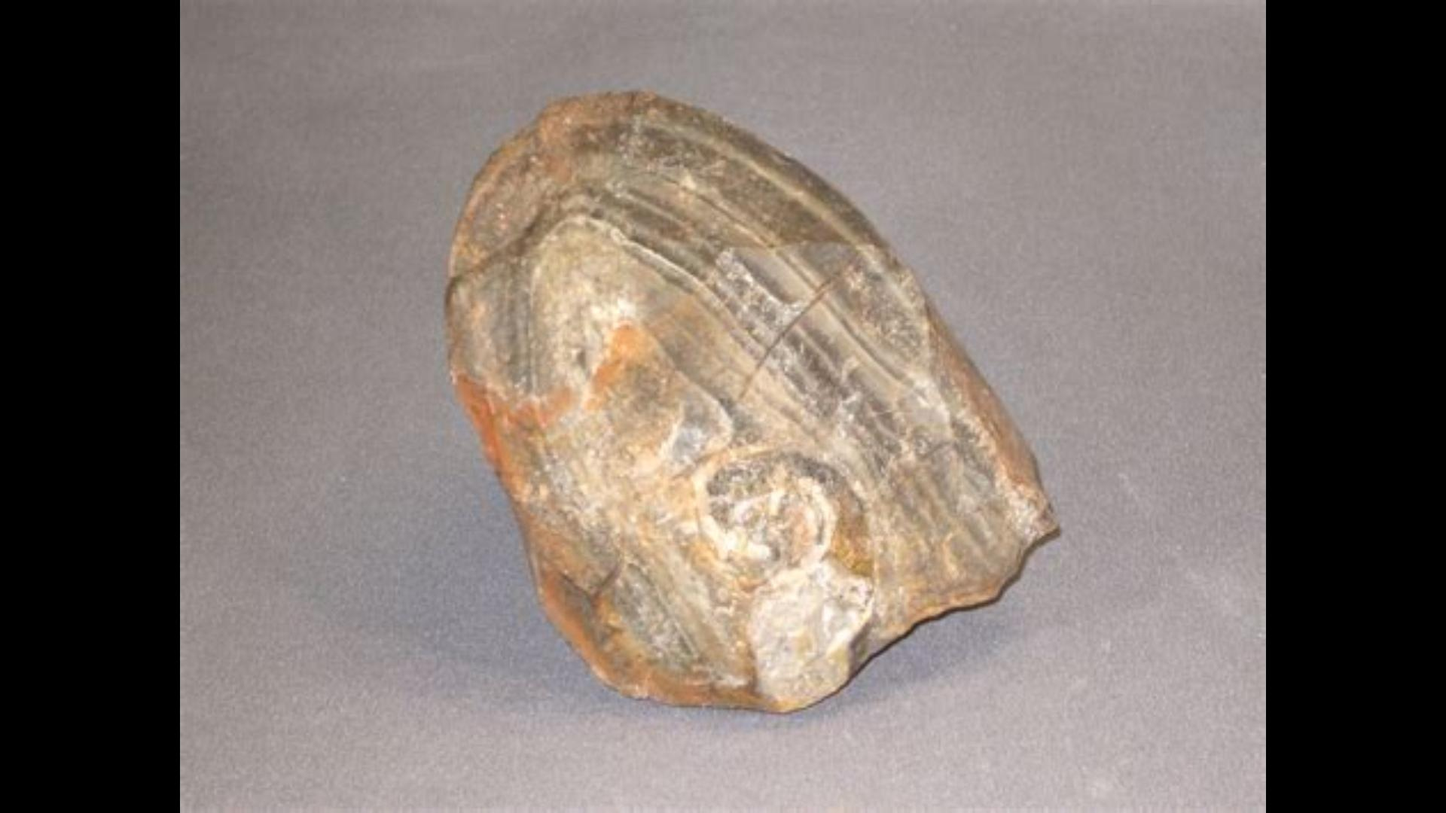rock: (446, 94, 1055, 708)
